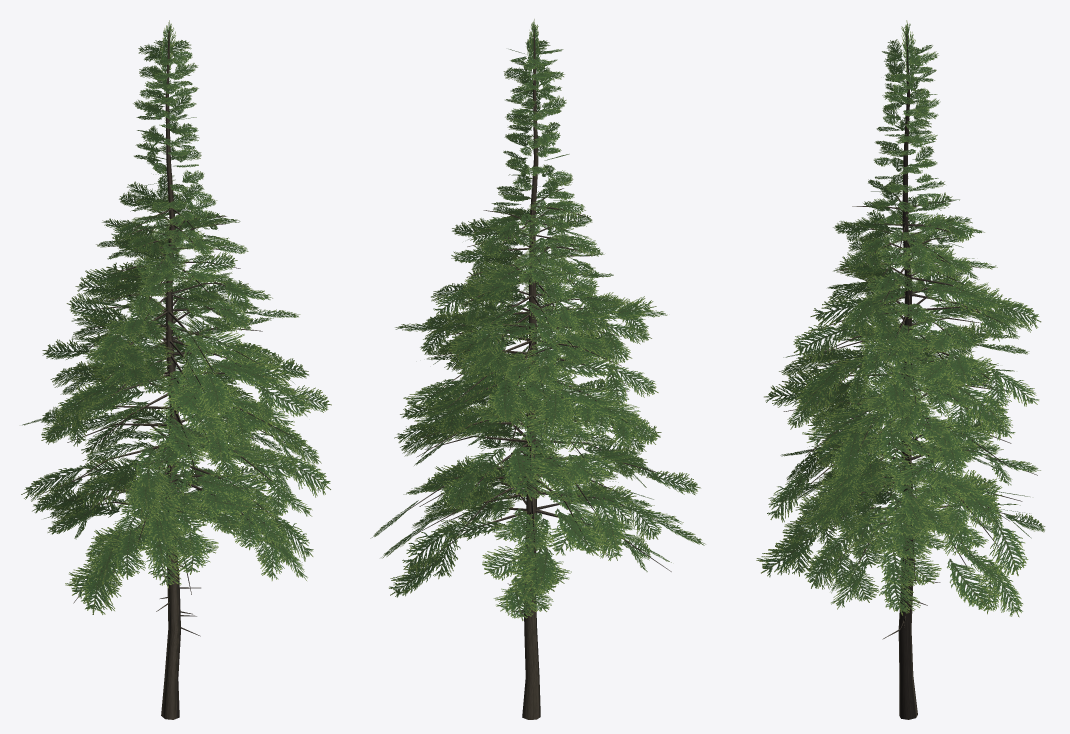
The model's file is near.glb.
3 renders of one model, left to right at view 1: azimuth 30°, elevation 25°; view 2: azimuth 150°, elevation 25°; view 3: azimuth 270°, elevation 25°, orthographic.
Parts seen in each view (by area): view 1: spruce_05; view 2: spruce_05; view 3: spruce_05.
Boxes of the visible parts, x1,y1,x2,y2 form: spruce_05: (21,20,331,719); spruce_05: (370,19,705,719); spruce_05: (756,20,1045,719).
Bounding box in the file's own units: 7.77 × 18.11 × 7.43.
2 materials, 2 textured.
